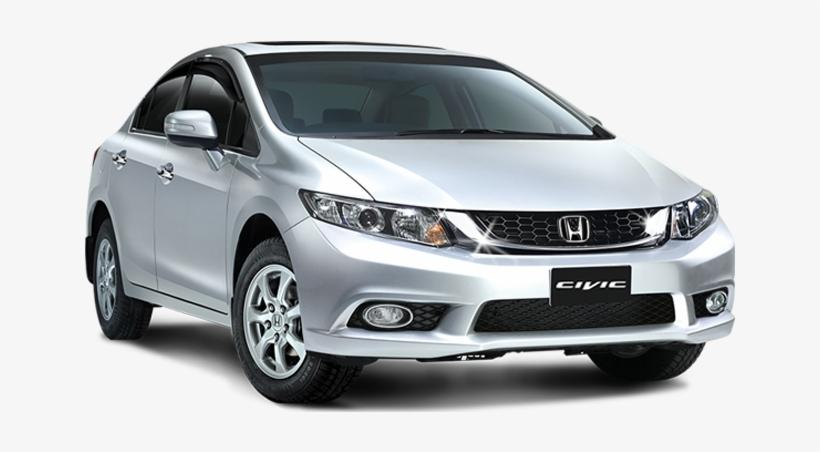windshield: (237, 52, 623, 151)
